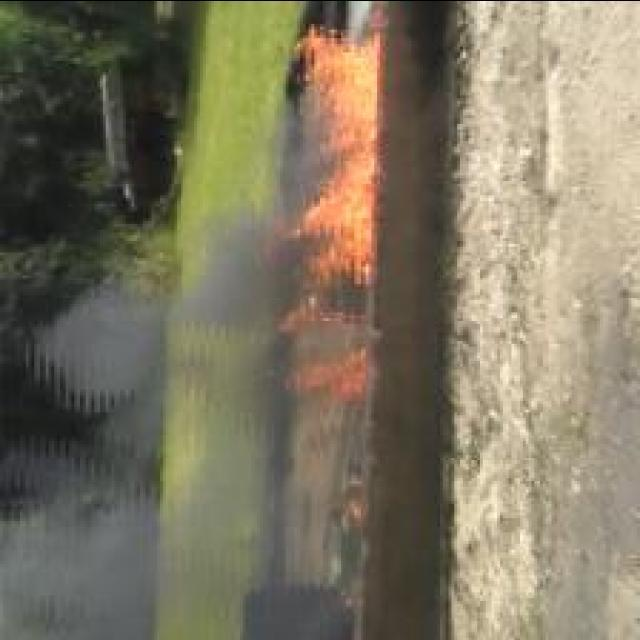Fire: (272, 21, 379, 333), (282, 348, 368, 401)
